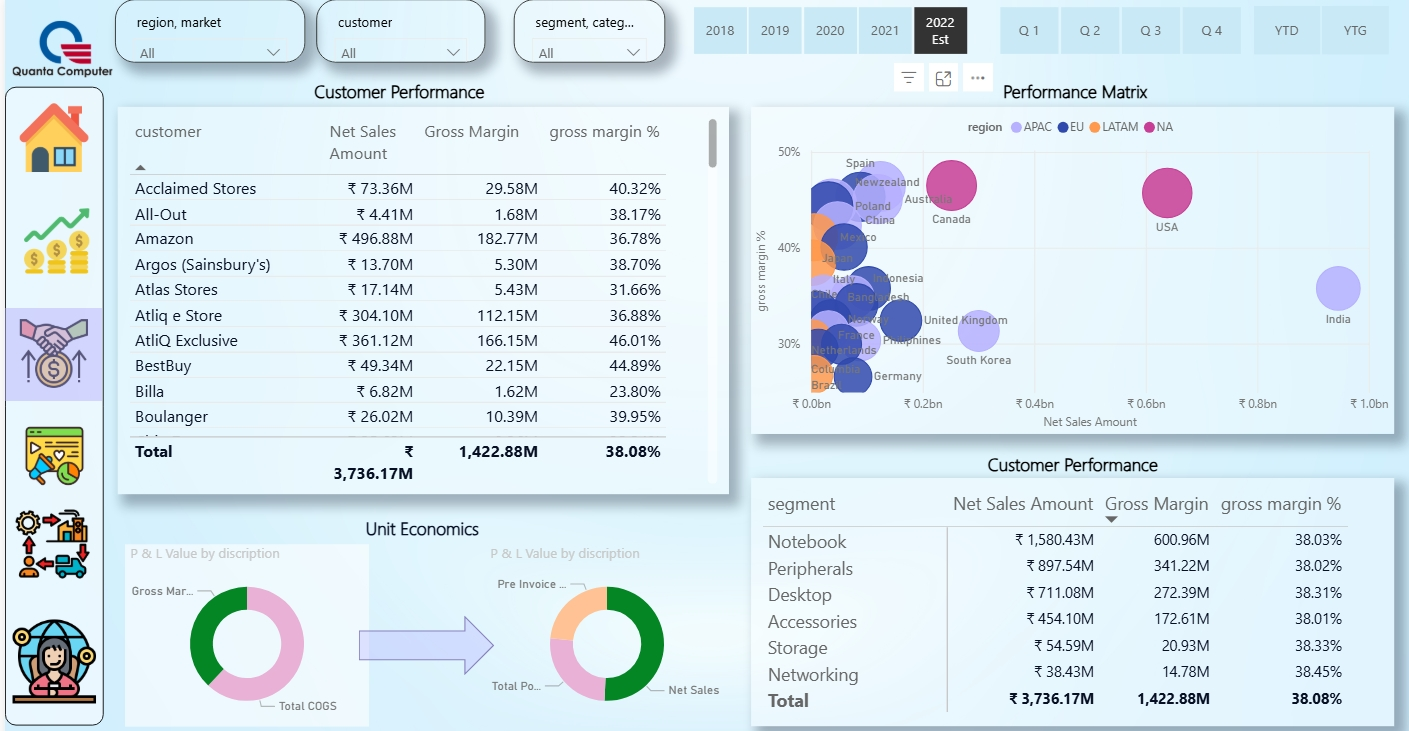

Layout of this report page (visuals, bound fields, positions):
{"tool":"powerbi","page":{"name":"Sales View","canvas":[1280,720],"ordinal":2},"visuals":[{"type":"slicer","fields":{"Values":["Fiscal_year.Est Fy"]},"box":[599.6,1.2,298,56.7],"z":0},{"type":"slicer","fields":{"Values":["dim_date.Quater"]},"box":[877.1,1.2,269,56.7],"z":1000},{"type":"slicer","fields":{"Values":["dim_date.ytd_ytg"]},"box":[1107.5,0,172.5,57.9],"z":2000},{"type":"textbox","box":[100.1,67.6,516.4,39.8],"z":3000},{"type":"slicer","fields":{"Values":["dim_market.region","dim_customer.market"]},"box":[100.1,1.2,172.5,57.9],"z":4000},{"type":"slicer","fields":{"Values":["dim_product.segment","dim_product.category","dim_product.product"]},"box":[462.1,1.2,137.5,57.9],"z":5000},{"type":"slicer","fields":{"Values":["dim_customer.customer"]},"box":[282.3,1.2,153.2,57.9],"z":6000},{"type":"image","box":[2.4,0,100.1,92.9],"z":7000},{"type":"shape","box":[0,80.8,89.3,580.3],"z":8000},{"type":"image","box":[1.2,285.9,86.9,73.6],"z":9000},{"type":"image","box":[4.8,185.8,84.5,68.8],"z":10000},{"type":"image","box":[4.8,90.5,79.6,72.4],"z":11000},{"type":"image","box":[4.8,380,80.8,71.2],"z":12000},{"type":"image","box":[0,457.2,86.9,77.2],"z":13000},{"type":"shape","box":[0,281.1,88.1,84.5],"z":14000},{"type":"tableEx","fields":{"Values":["dim_customer.customer","key Measure.Net Sales Amount","key Measure.Gross Margin","key Measure.gross margin %"]},"box":[102.5,98.9,555,352.3],"z":15000},{"type":"scatterChart","fields":{"Category":["dim_market.market","dim_customer.customer"],"X":["key Measure.Net Sales Amount"],"Size":["key Measure.gross margin %"],"Series":["dim_market.region"],"Y":["key Measure.gross margin %"]},"box":[678,98.9,583.9,296.8],"z":16000},{"type":"donutChart","fields":{"Y":["key Measure.P & L Value"],"Category":["P&L Rows.discription"]},"box":[435.5,495.8,222,165.3],"z":17000},{"type":"donutChart","fields":{"Y":["key Measure.P & L Value"],"Category":["P&L Rows.discription"]},"box":[108.6,495.8,222,165.3],"z":18000},{"type":"pivotTable","fields":{"Rows":["dim_product.segment","dim_product.category","dim_product.product"],"Values":["key Measure.Net Sales Amount","key Measure.Gross Margin","key Measure.gross margin %"]},"box":[678,435.5,583.9,225.6],"z":19000},{"type":"shape","box":[320.9,561,123.1,54.3],"z":20000},{"type":"textbox","box":[678,407.8,583.9,43.4],"z":21000},{"type":"textbox","box":[678,67.6,583.9,39.8],"z":22000},{"type":"textbox","box":[105,465.7,548.9,39.8],"z":23000},{"type":"image","box":[0,558.6,89.3,88.1],"z":24000}]}

Visuals, with their boxes on the page's 1280x720 design canvas (x1, y1, x2, y2). These are canvas units, not pixel positions in the 1409x731 screenshot, which may show the page scaled, cropped or inside an application window:
slicer - Fiscal_year.Est Fy: rect(600, 1, 898, 58)
slicer - dim_date.Quater: rect(877, 1, 1146, 58)
slicer - dim_date.ytd_ytg: rect(1108, 0, 1280, 58)
textbox: rect(100, 68, 616, 107)
slicer - dim_market.region x dim_customer.market: rect(100, 1, 273, 59)
slicer - dim_product.segment x dim_product.category: rect(462, 1, 600, 59)
slicer - dim_customer.customer: rect(282, 1, 436, 59)
image: rect(2, 0, 102, 93)
shape: rect(0, 81, 89, 661)
image: rect(1, 286, 88, 360)
image: rect(5, 186, 89, 255)
image: rect(5, 90, 84, 163)
image: rect(5, 380, 86, 451)
image: rect(0, 457, 87, 534)
shape: rect(0, 281, 88, 366)
tableEx - dim_customer.customer x key Measure.Net Sales Amount: rect(102, 99, 658, 451)
scatterChart - dim_market.market x dim_customer.customer: rect(678, 99, 1262, 396)
donutChart - key Measure.P & L Value x P&L Rows.discription: rect(436, 496, 658, 661)
donutChart - key Measure.P & L Value x P&L Rows.discription: rect(109, 496, 331, 661)
pivotTable - dim_product.segment x dim_product.category: rect(678, 436, 1262, 661)
shape: rect(321, 561, 444, 615)
textbox: rect(678, 408, 1262, 451)
textbox: rect(678, 68, 1262, 107)
textbox: rect(105, 466, 654, 506)
image: rect(0, 559, 89, 647)
